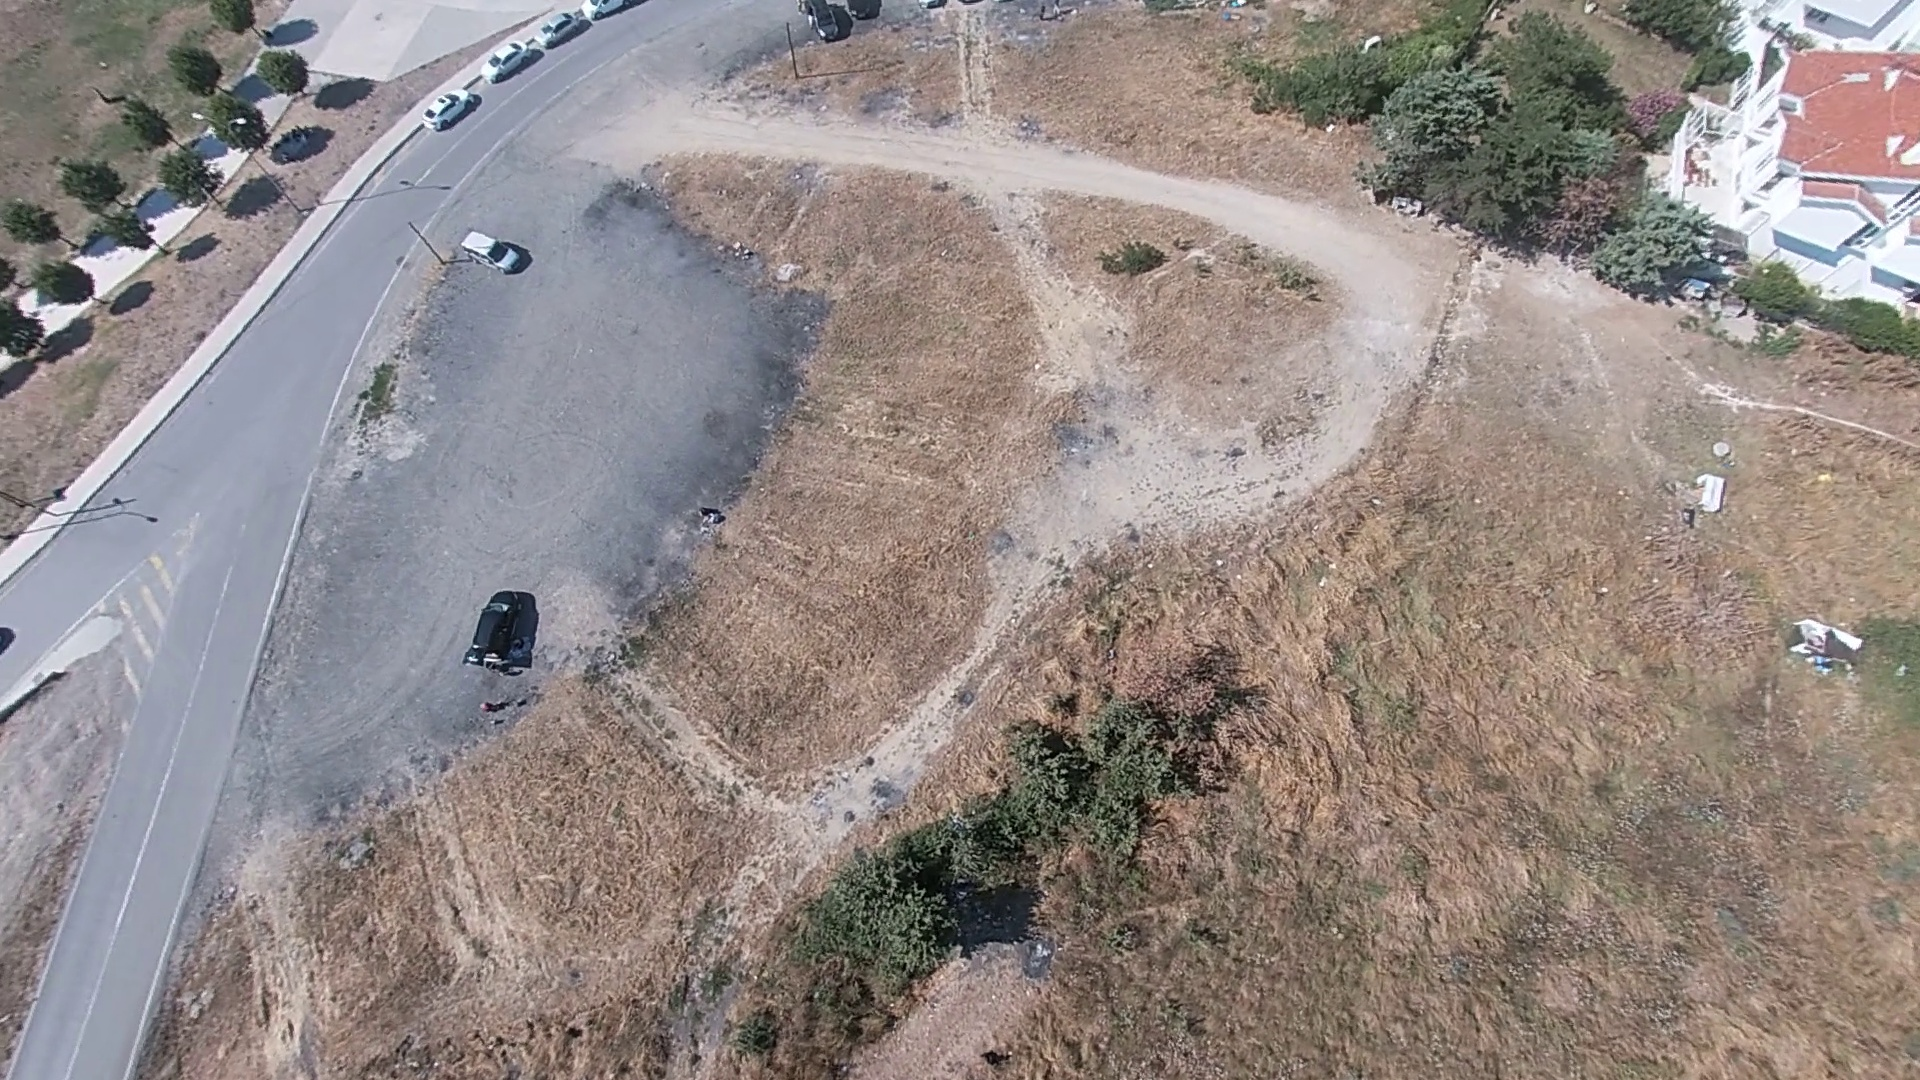araba: (469, 582, 527, 667), (483, 34, 545, 80), (462, 229, 526, 269), (422, 86, 477, 131), (545, 8, 587, 44)
